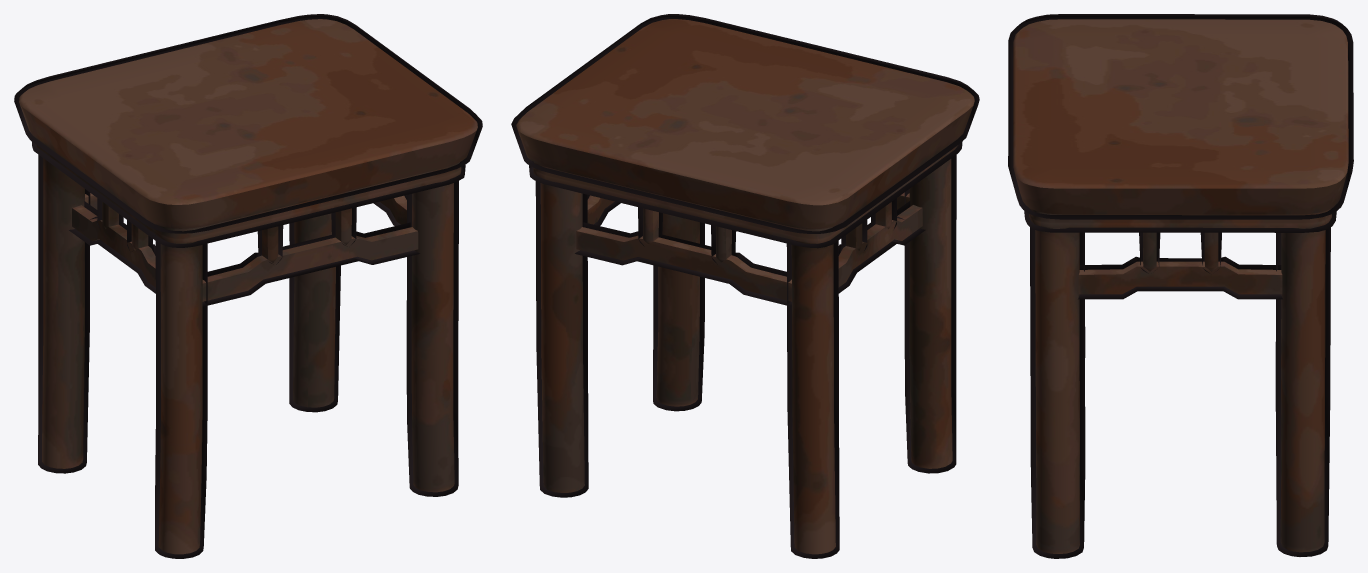
Rendered from SM_Int_Stool.fbx.
3 views of the same model, side by side, from view 1: azimuth 30°, elevation 25°; view 2: azimuth 150°, elevation 25°; view 3: azimuth 270°, elevation 25° (orthographic). The views are drawn at different scales.
Parts seen in each view (by area): view 1: SM_Int_Stool; view 2: SM_Int_Stool; view 3: SM_Int_Stool.
Part boxes in pixels (bbox=[...]): SM_Int_Stool: bbox=[14, 14, 482, 558]; SM_Int_Stool: bbox=[511, 14, 979, 558]; SM_Int_Stool: bbox=[1008, 14, 1353, 558].
Size of what is drawn, in the model's own units: 0.6145 by 0.6466 by 0.522.
